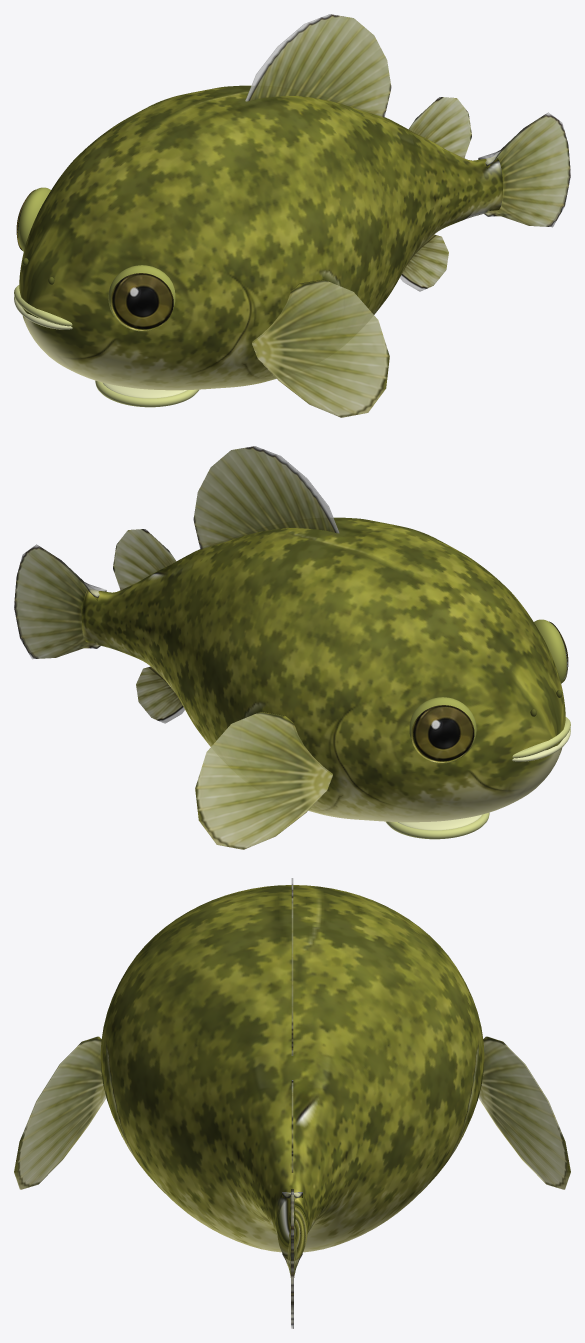
Rendered from dangouo-green.glb.
3 renders of one model, top to bottom at view 1: azimuth 30°, elevation 25°; view 2: azimuth 150°, elevation 25°; view 3: azimuth 270°, elevation 25°, orthographic. The views are drawn at different scales.
Parts seen in each view (by area): view 1: Body_continuous_skin, Pectoral_right, Dorsal_1, Caudal, Eye_iris_1, Dorsal_2, Anal, Pelvic_disc_rim, Eye_globe_-1, Eye_globe_1, Pelvic_disc_dish, Mouth_upper; view 2: Body_continuous_skin, Pectoral_left, Dorsal_1, Caudal, Eye_iris_-1, Dorsal_2, Anal, Pelvic_disc_rim, Eye_globe_1, Eye_globe_-1, Pelvic_disc_dish, Mouth_upper; view 3: Body_continuous_skin, Pectoral_left, Pectoral_right, Caudal.
Part boxes in pixels (x1,y1,x2,y2): Body_continuous_skin: [19, 85, 502, 390]; Pectoral_right: [252, 279, 389, 417]; Dorsal_1: [245, 14, 391, 117]; Caudal: [478, 112, 570, 227]; Eye_iris_1: [110, 273, 173, 330]; Dorsal_2: [408, 97, 471, 158]; Anal: [400, 234, 448, 291]; Pelvic_disc_rim: [95, 380, 198, 407]; Eye_globe_-1: [18, 187, 50, 251]; Eye_globe_1: [108, 265, 175, 331]; Pelvic_disc_dish: [103, 382, 186, 398]; Mouth_upper: [14, 285, 72, 326]; Body_continuous_skin: [82, 517, 565, 822]; Pectoral_left: [195, 711, 332, 849]; Dorsal_1: [193, 446, 339, 549]; Caudal: [14, 544, 106, 659]; Eye_iris_-1: [411, 705, 474, 762]; Dorsal_2: [113, 529, 176, 590]; Anal: [136, 666, 184, 723]; Pelvic_disc_rim: [386, 812, 489, 839]; Eye_globe_1: [534, 619, 566, 683]; Eye_globe_-1: [409, 697, 476, 763]; Pelvic_disc_dish: [398, 814, 481, 830]; Mouth_upper: [512, 717, 570, 758]; Body_continuous_skin: [100, 885, 484, 1260]; Pectoral_left: [478, 1036, 570, 1189]; Pectoral_right: [14, 1036, 106, 1189]; Caudal: [282, 1189, 302, 1328].
Bounding box in the file's own units: 0.0297 × 0.0171 × 0.0224.
Materials: 2 (2 with a texture image).
